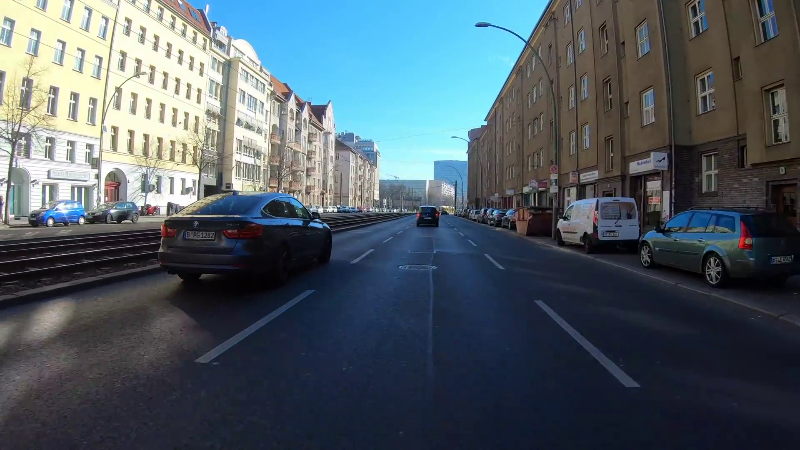Plate: (182, 229, 215, 241), (770, 255, 794, 264), (603, 230, 620, 237)
